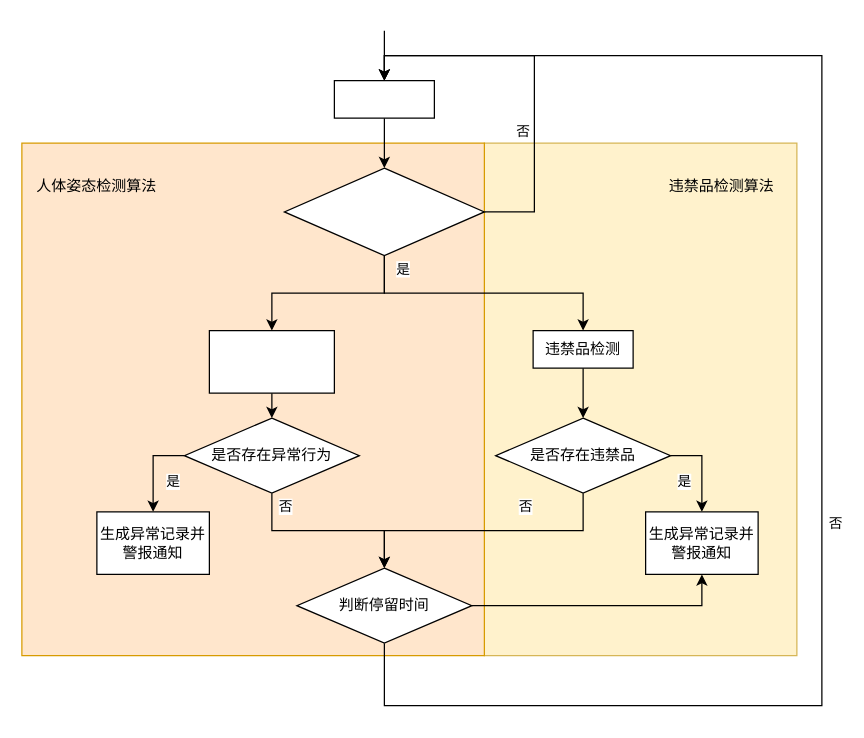
Image size: 864x738. Some labels were removed from this diagram. Each missing label, with the centre of its shape:
"检测人体" belongs at point 383,211.
"计算考生坐姿角度以及视觉角度" belongs at point 271,361.
"采集数据" belongs at point 383,98.
